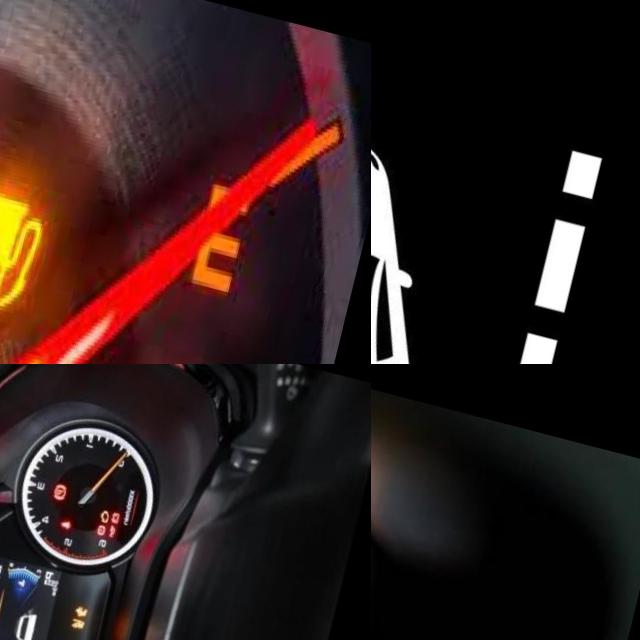Seat Belt: (70, 503, 83, 515)
